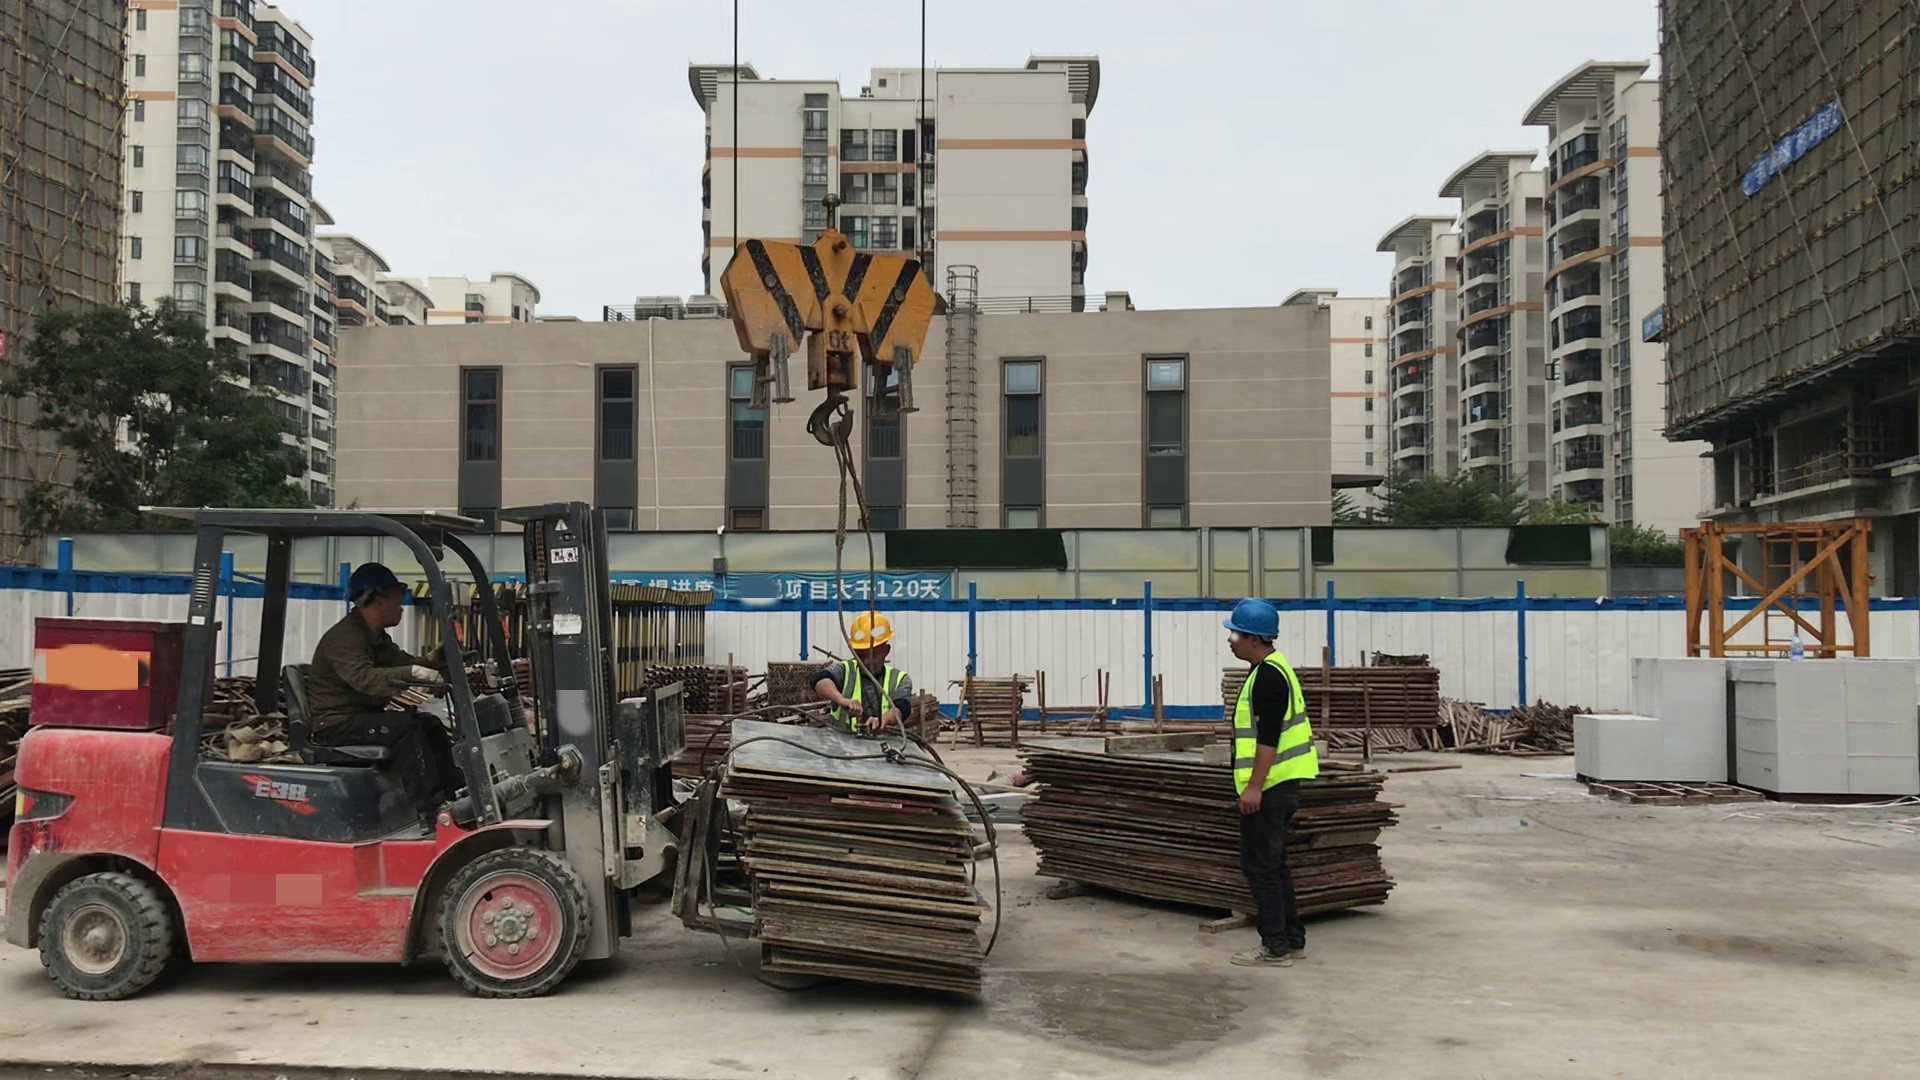board: (718, 719, 1001, 1004), (1026, 741, 1424, 924)
brick: (1733, 648, 1920, 805), (1570, 645, 1737, 787)
helmet: (1223, 591, 1290, 637), (844, 604, 896, 649), (344, 564, 414, 596)
hook: (730, 172, 964, 434)
person: (297, 556, 499, 831), (1206, 587, 1333, 978), (814, 609, 933, 750)
scaffold: (1333, 659, 1439, 729), (648, 652, 753, 706)
slogan: (626, 565, 959, 613), (1748, 108, 1841, 189)
vest: (1228, 660, 1318, 793), (827, 657, 903, 737)
